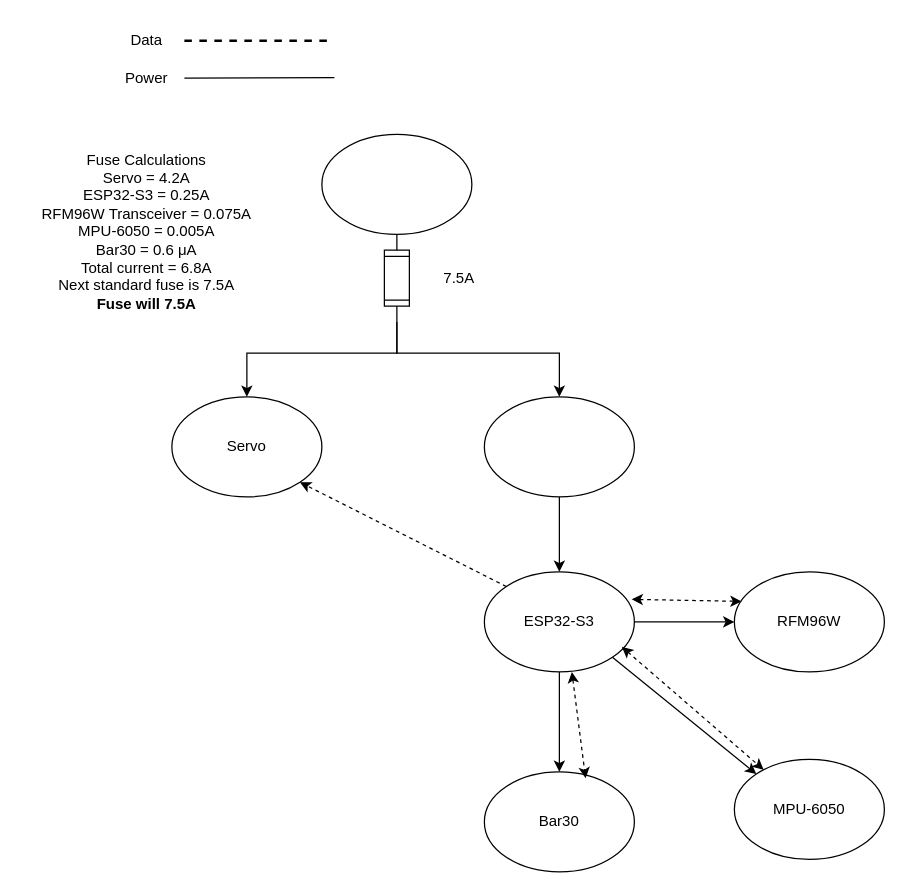
Image size: 906x894. Some labels were removed from this diagram. The centre of each missing label's shape, as x and y in pixels:
"5S1P AA Battery Pack" belongs at point (396, 183).
"5V Voltage Converter" belongs at point (558, 446).
